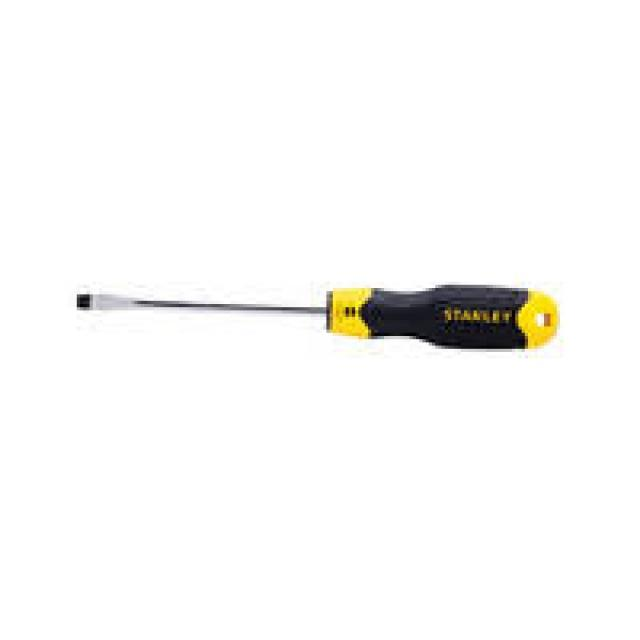screwdriver: (56, 280, 565, 354)
